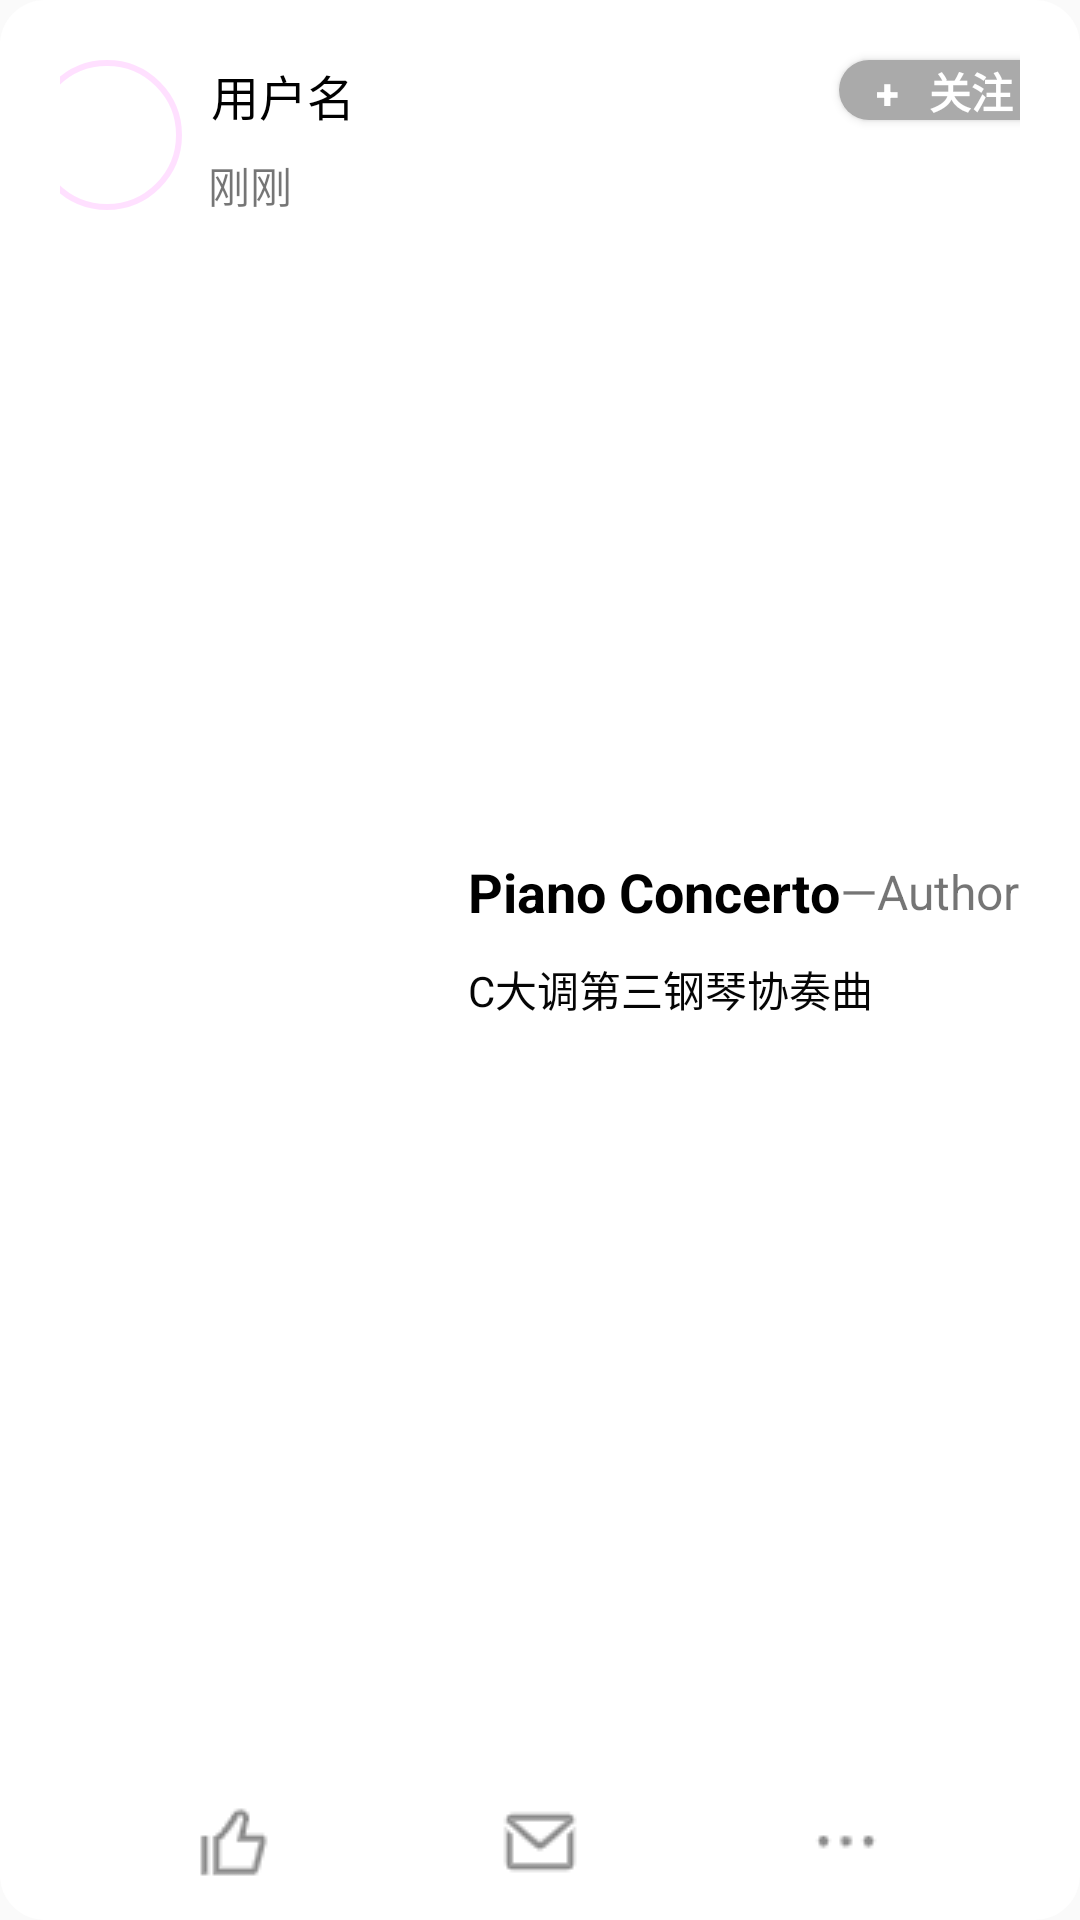

Where to tap for icons on this 1080 × 1920 app screen, as [x,y]:
ellipsis: [846,1841]
good: [233,1842]
message: [540,1842]
